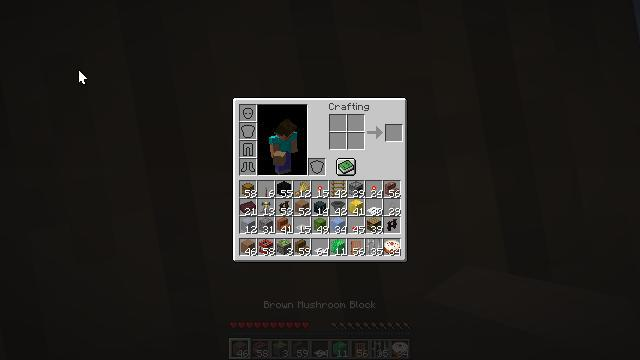cursor: (78, 69, 88, 85)
